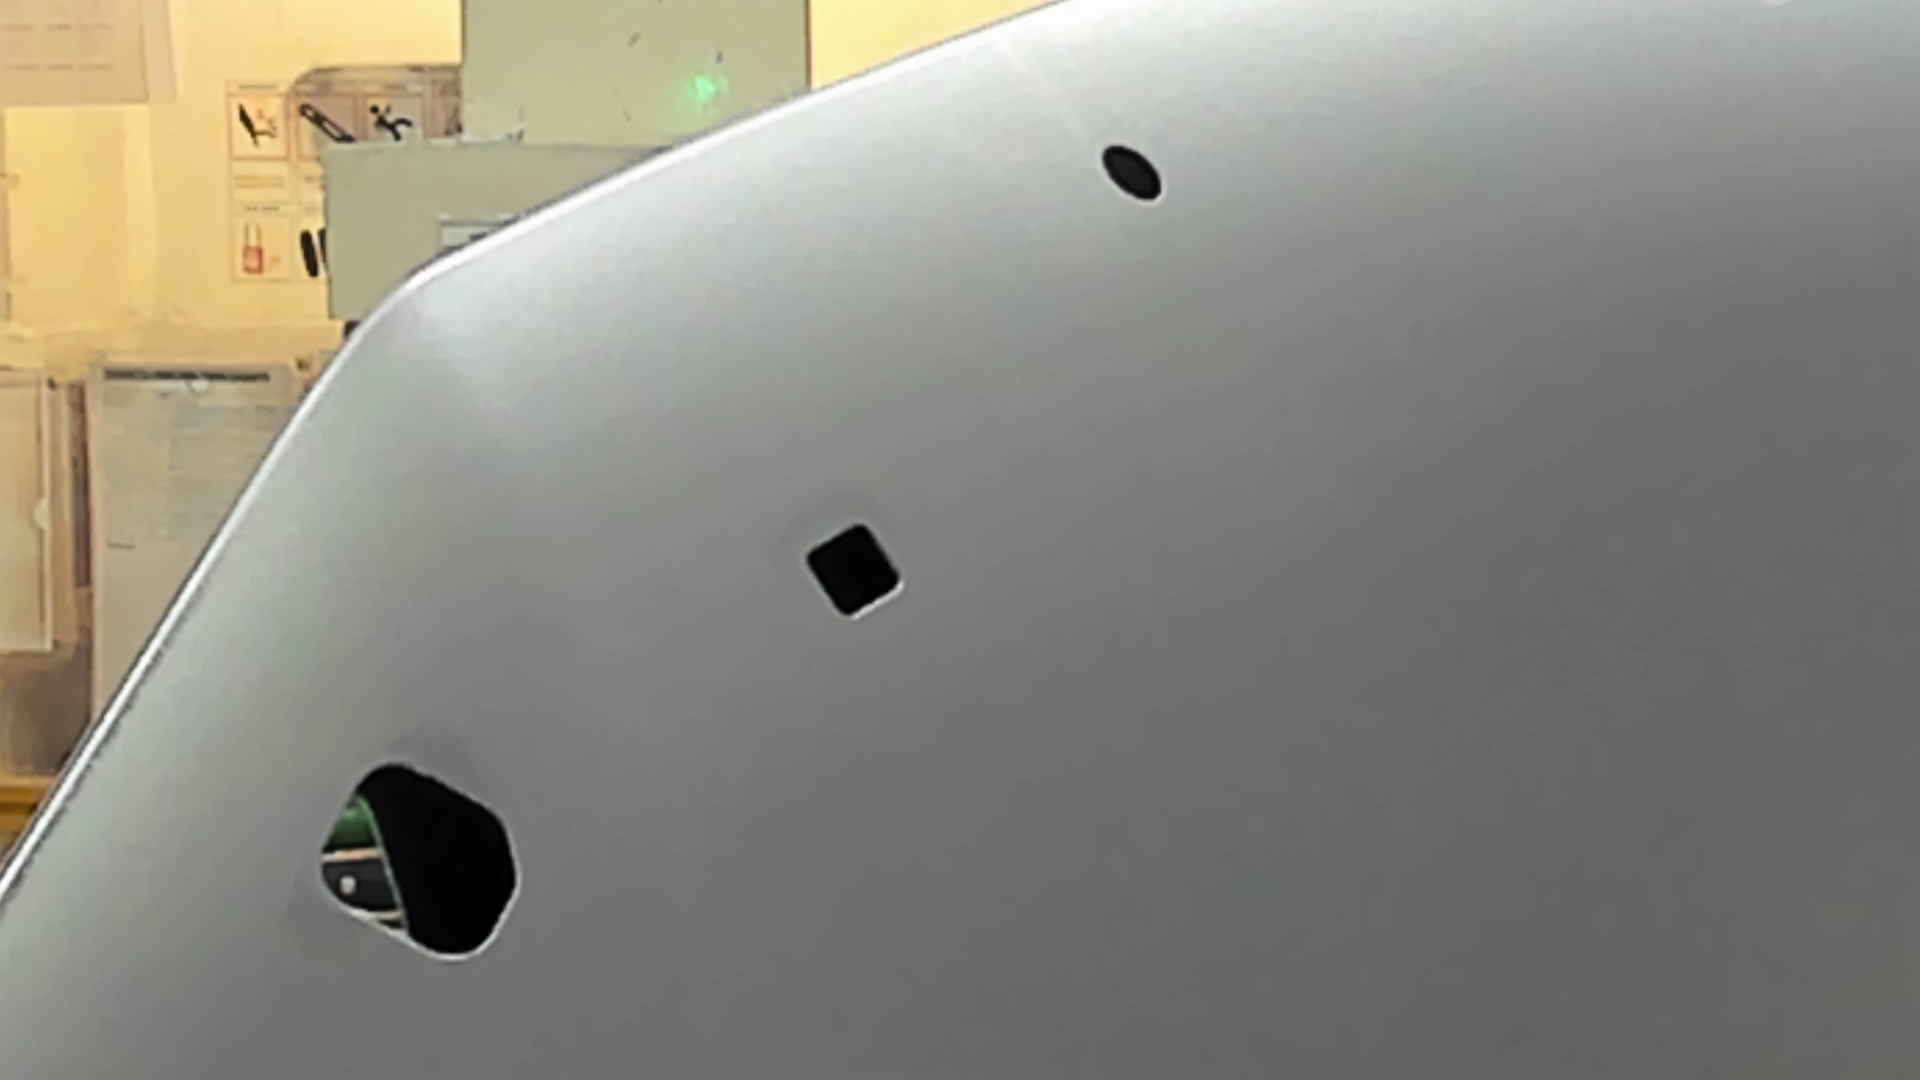chico: (1087, 123, 1187, 224)
grande: (291, 735, 554, 986)
mediano: (793, 496, 924, 636)
